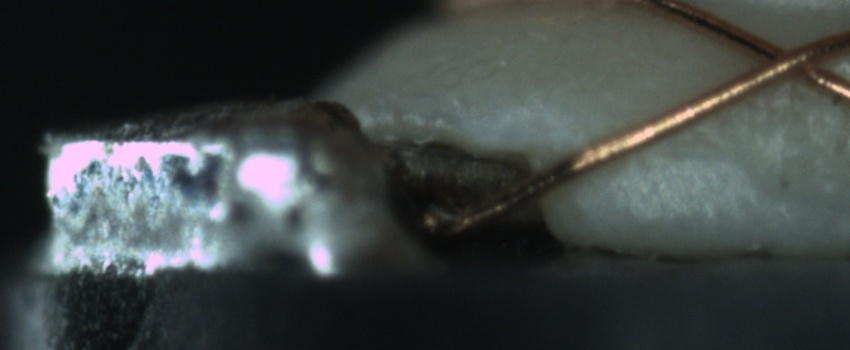CL: (738, 26, 841, 95)
DL: (610, 127, 746, 186)
